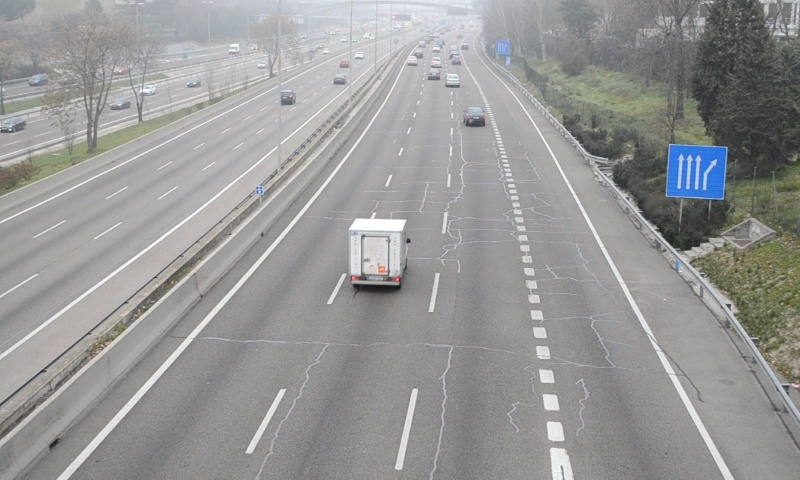car: (464, 106, 486, 126)
small-truck: (348, 218, 410, 286)
